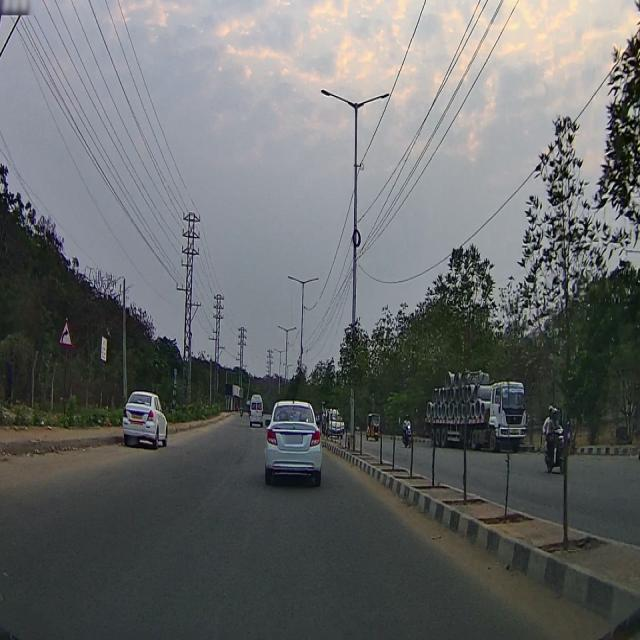right-hand-curve: (61, 318, 71, 344)
